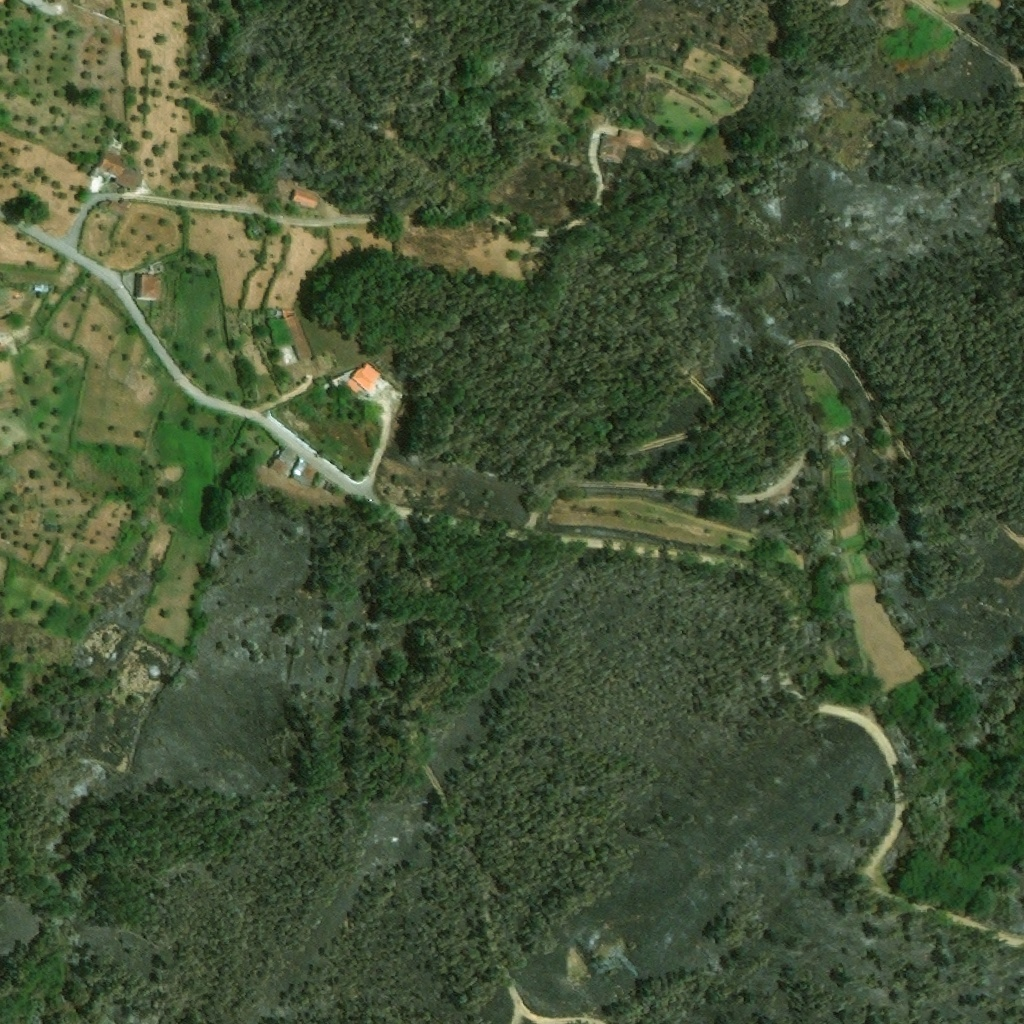0 no-damage: (93, 128, 144, 194), (600, 127, 650, 164), (264, 440, 299, 480), (132, 273, 163, 302), (345, 367, 377, 393), (289, 189, 319, 211), (34, 283, 53, 295)
